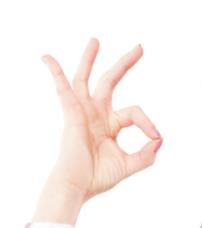left: (38, 37, 163, 190)
